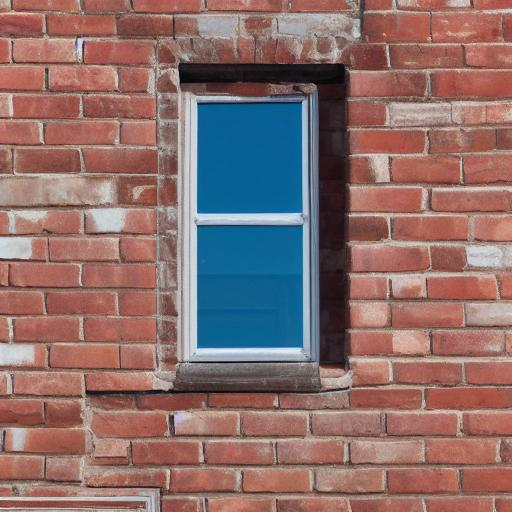Window: (149, 37, 359, 394)
